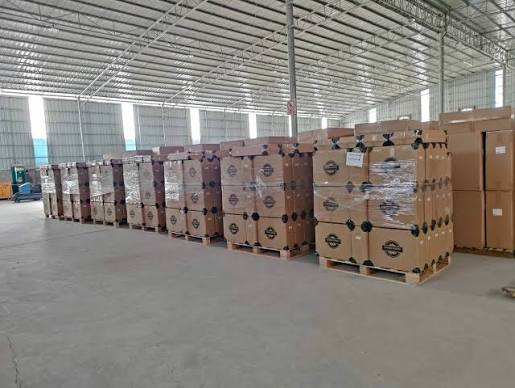box: (358, 187, 415, 232), (368, 228, 413, 276), (310, 223, 363, 262), (124, 159, 153, 229), (368, 144, 414, 187), (309, 147, 359, 186), (88, 160, 120, 216), (319, 187, 360, 225), (60, 166, 87, 218), (165, 208, 210, 239), (255, 217, 291, 249), (246, 158, 290, 184), (42, 172, 67, 213), (221, 184, 254, 214), (230, 214, 256, 249), (156, 159, 184, 189), (255, 188, 284, 215), (180, 188, 211, 211), (223, 157, 245, 186), (185, 159, 206, 187)
